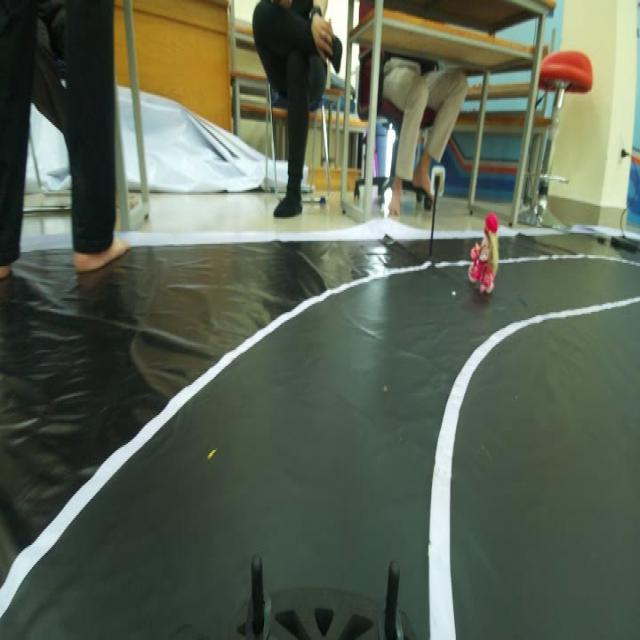pedestrian: (466, 208, 503, 306)
